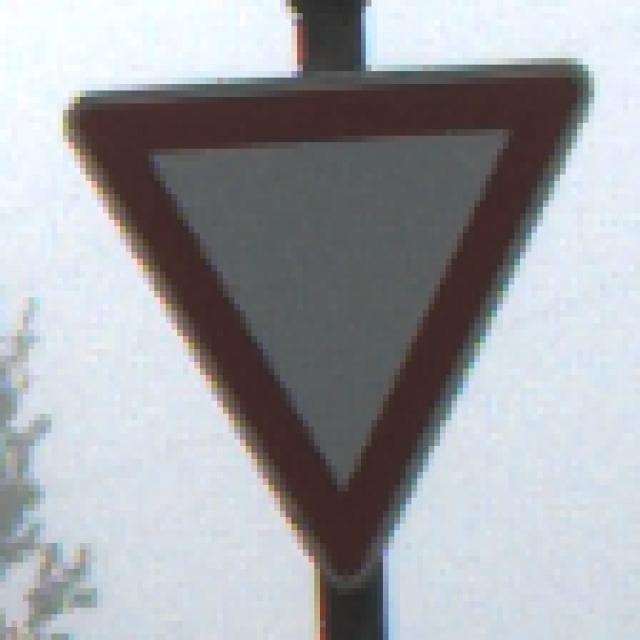give way: (64, 57, 599, 590)
